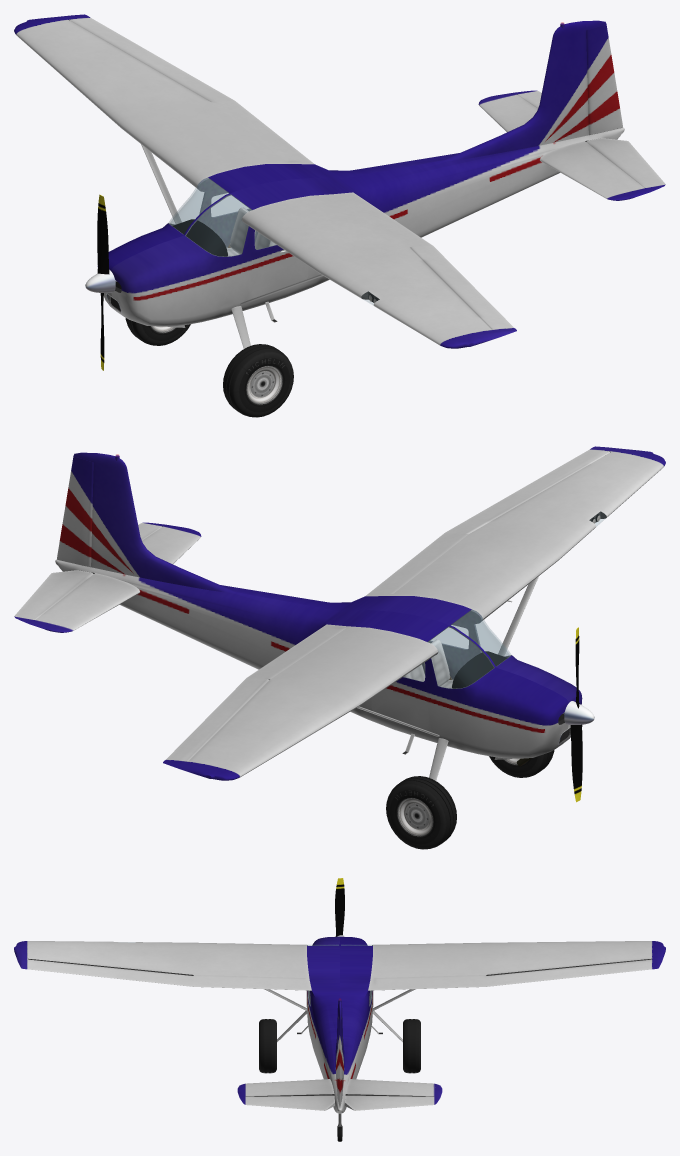
File: cessna_180_skywagon_bush_blend.glb
3 renders of one model, top to bottom at view 1: azimuth 30°, elevation 25°; view 2: azimuth 150°, elevation 25°; view 3: azimuth 270°, elevation 25°, orthographic. The views are drawn at different scales.
Parts seen in each view (by area): view 1: Object_23, Object_24, Object_26, Object_20, Object_28, Object_21, Object_17; view 2: Object_23, Object_24, Object_26, Object_20, Object_28, Object_21, Object_17; view 3: Object_23, Object_24.
Part boxes in pixels (x1,y1,x2,y2): Object_23: (14,14,622,417); Object_24: (97,20,665,326); Object_26: (169,22,563,305); Object_20: (168,177,276,256); Object_28: (170,187,249,224); Object_21: (172,219,227,256); Object_17: (226,207,276,256); Object_23: (57,446,665,849); Object_24: (14,452,582,758); Object_26: (116,454,605,688); Object_20: (403,609,511,688); Object_28: (430,619,509,656); Object_21: (452,651,507,688); Object_17: (403,639,453,688); Object_23: (14,878,665,1141); Object_24: (237,936,442,1136).
Size of the model in its own units: 7.84 by 3.66 by 10.87.
25 materials, 24 textured.
